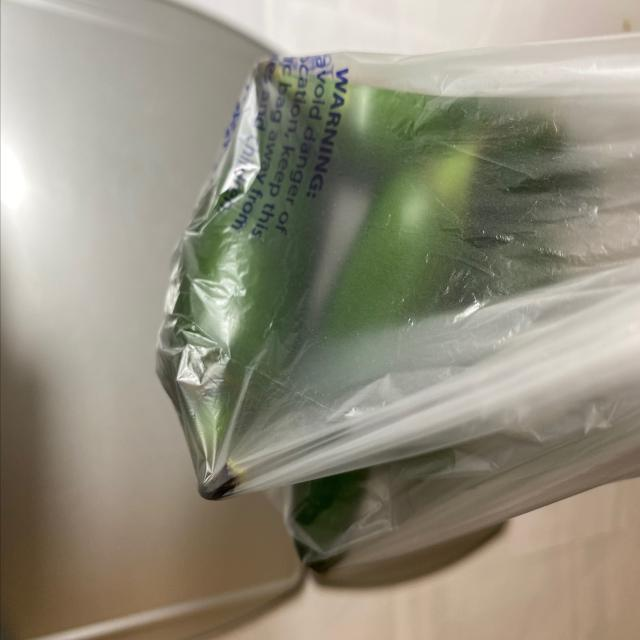chilli: (152, 33, 580, 591)
